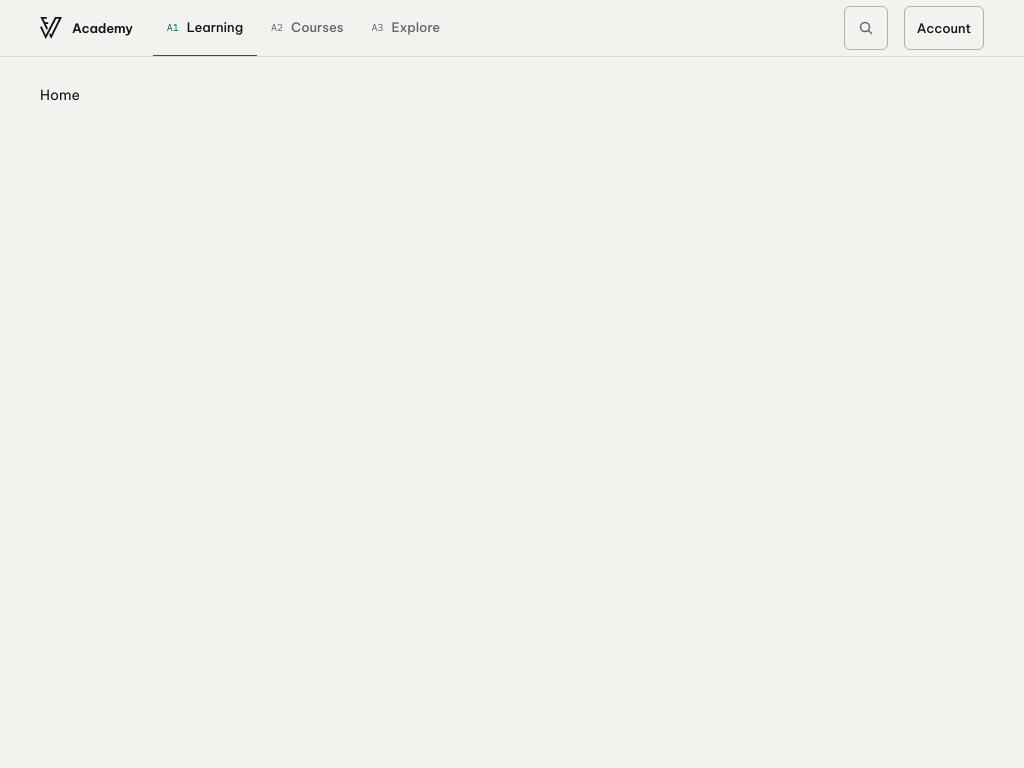
it: learner command menu actions › closes, asks the navigation guard, then pushes
The width and height of the screenshot is (1024, 768).
Press k in the heading "Home", box x1=40 y1=86 x2=80 y2=104
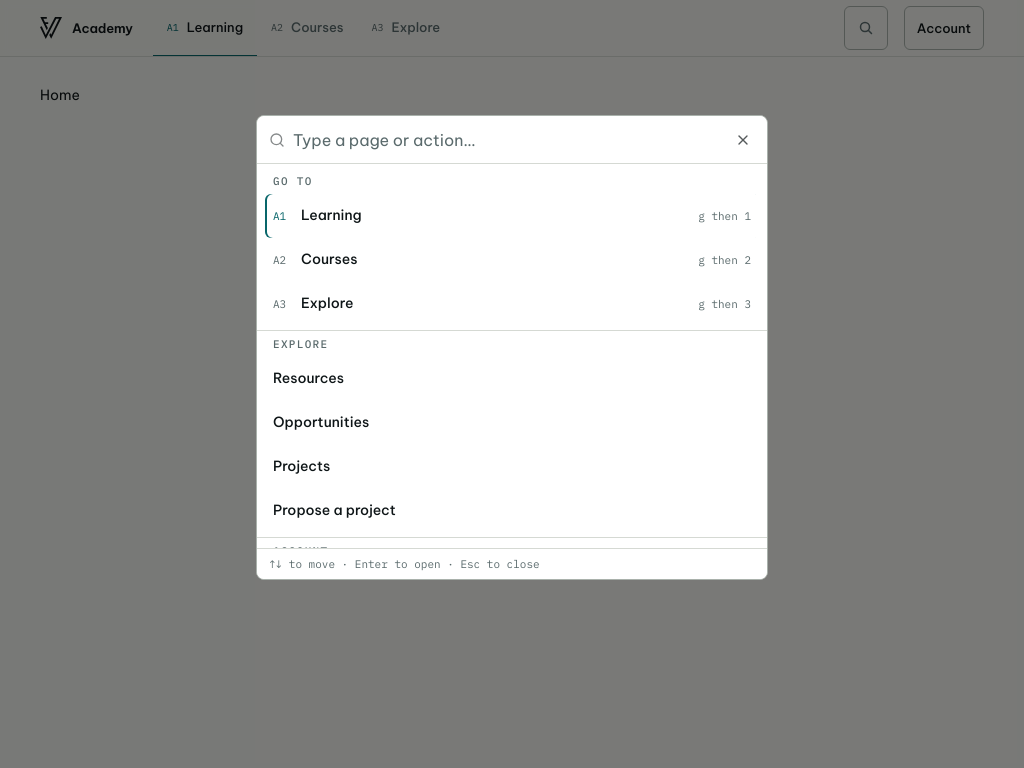
Click the option "Resources".
click(309, 378)  # box x1=273 y1=369 x2=344 y2=387
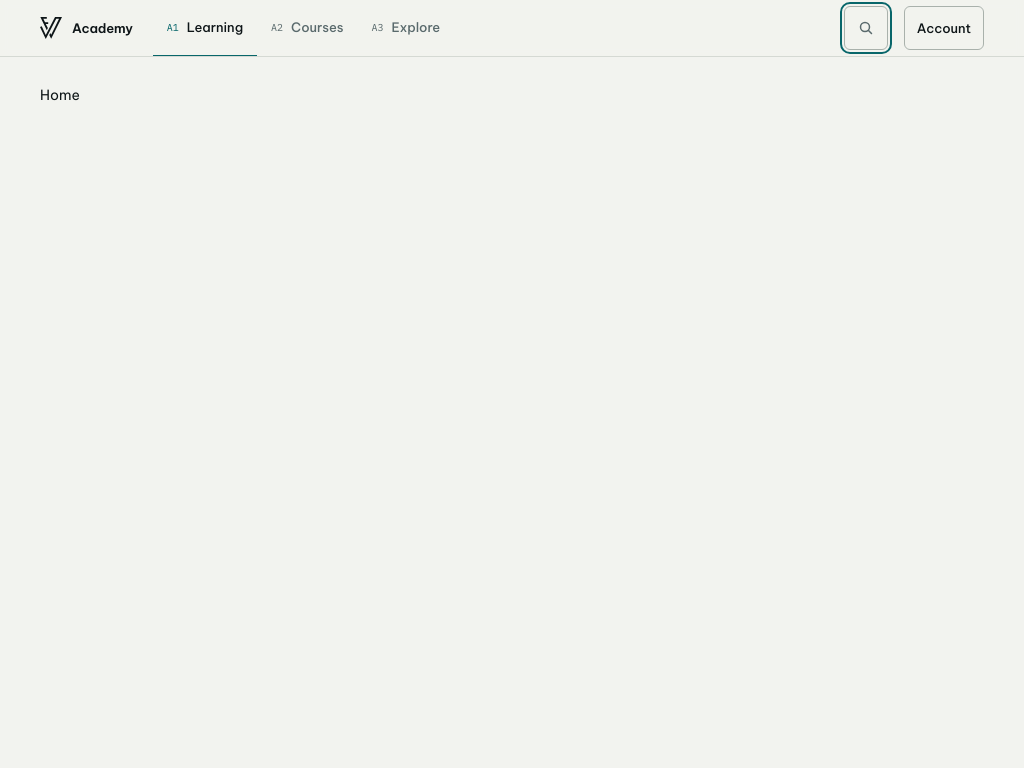
Expected: the dialog is gone
